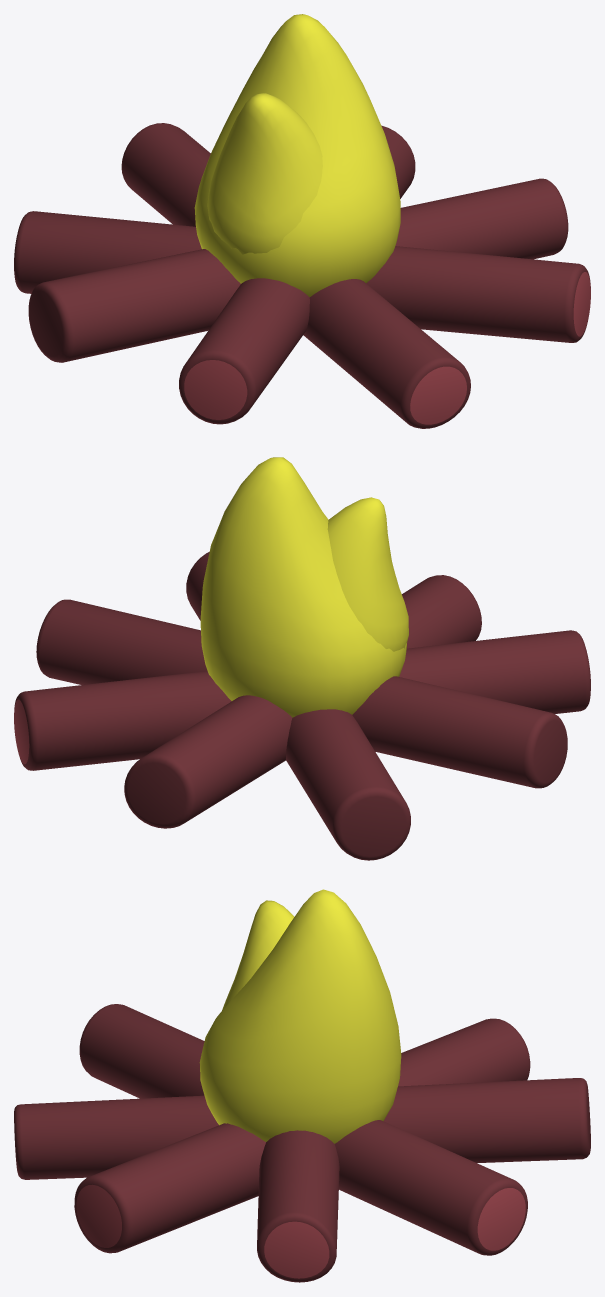
Rendered from uploads_files_2785068_untitled.fbx.
The picture shows the model from 3 angles, top to bottom: view 1: azimuth 30°, elevation 25°; view 2: azimuth 150°, elevation 25°; view 3: azimuth 270°, elevation 25°; orthographic projection.
Parts seen in each view (by area): view 1: Cylinder.001; view 2: Cylinder.001; view 3: Cylinder.001.
Boxes of the visible parts, x1,y1,x2,y2 form: Cylinder.001: (14,14,590,428); Cylinder.001: (14,457,590,860); Cylinder.001: (14,889,590,1282).
Bounding box in the file's own units: 262 × 148 × 262.
